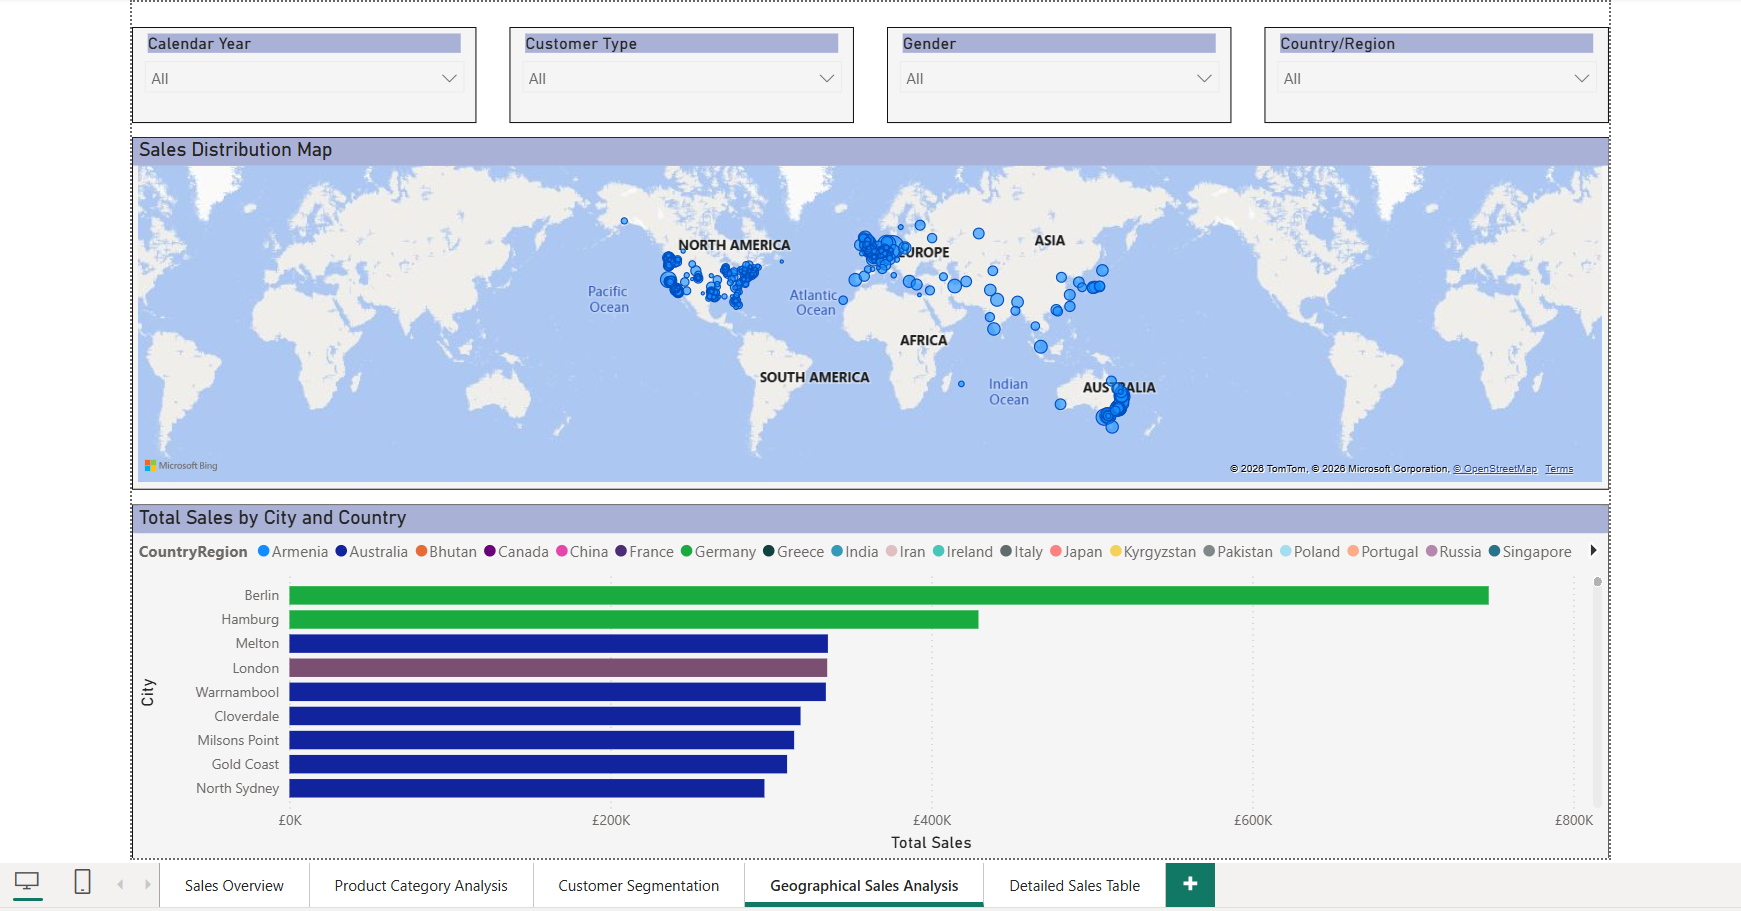

The dashboard page shown, as its layout file describes it:
{"tool":"powerbi","page":{"name":"Geographical Sales Analysis","canvas":[1280,720],"ordinal":3},"visuals":[{"type":"map","title":"Sales Distribution Map","fields":{"Category":["Customer.City"],"Size":["01.Measures.Total Sales"]},"box":[0,95.8,1280.3,305.5],"z":0},{"type":"barChart","title":"Total Sales by City and Country","fields":{"Category":["Customer.City"],"Y":["01.Measures.Total Sales"],"Series":["Customer.CountryRegion"]},"box":[0,413.8,1280.3,306.9],"z":1000},{"type":"slicer","fields":{"Values":["Date.Calendar Year"]},"box":[0,0,298.5,83.3],"z":2000},{"type":"slicer","fields":{"Values":["Customer.Customer Type"]},"box":[327,0,298.5,83.3],"z":3000},{"type":"slicer","fields":{"Values":["Customer.Gender"]},"box":[654,0,298.5,83.3],"z":4000},{"type":"slicer","fields":{"Values":["Customer.CountryRegion"]},"box":[981.7,0,298.5,83.3],"z":5000}]}

Visuals, with their boxes on the page's 1280x720 design canvas (x1, y1, x2, y2). These are canvas units, not pixel positions in the 1741x911 screenshot, which may show the page scaled, cropped or inside an application window:
"Sales Distribution Map" map: {"x1": 0, "y1": 96, "x2": 1280, "y2": 401}
"Total Sales by City and Country" barChart: {"x1": 0, "y1": 414, "x2": 1280, "y2": 721}
slicer - Date.Calendar Year: {"x1": 0, "y1": 0, "x2": 298, "y2": 83}
slicer - Customer.Customer Type: {"x1": 327, "y1": 0, "x2": 626, "y2": 83}
slicer - Customer.Gender: {"x1": 654, "y1": 0, "x2": 952, "y2": 83}
slicer - Customer.CountryRegion: {"x1": 982, "y1": 0, "x2": 1280, "y2": 83}
